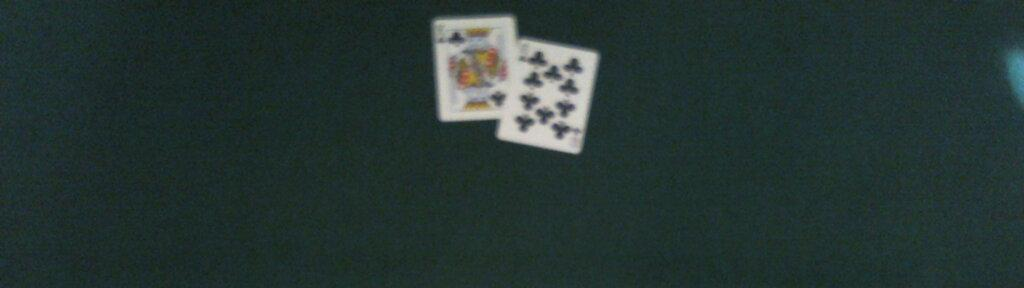king: (430, 13, 524, 122)
ten: (495, 37, 601, 154)
